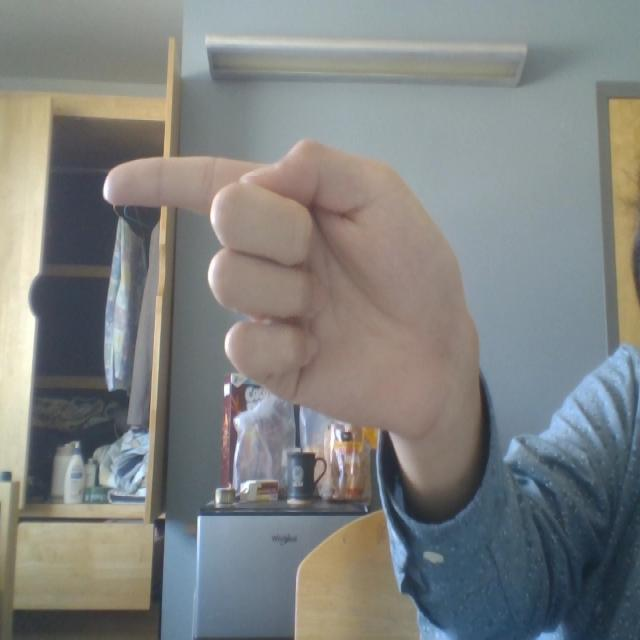G: (73, 46, 566, 573)
